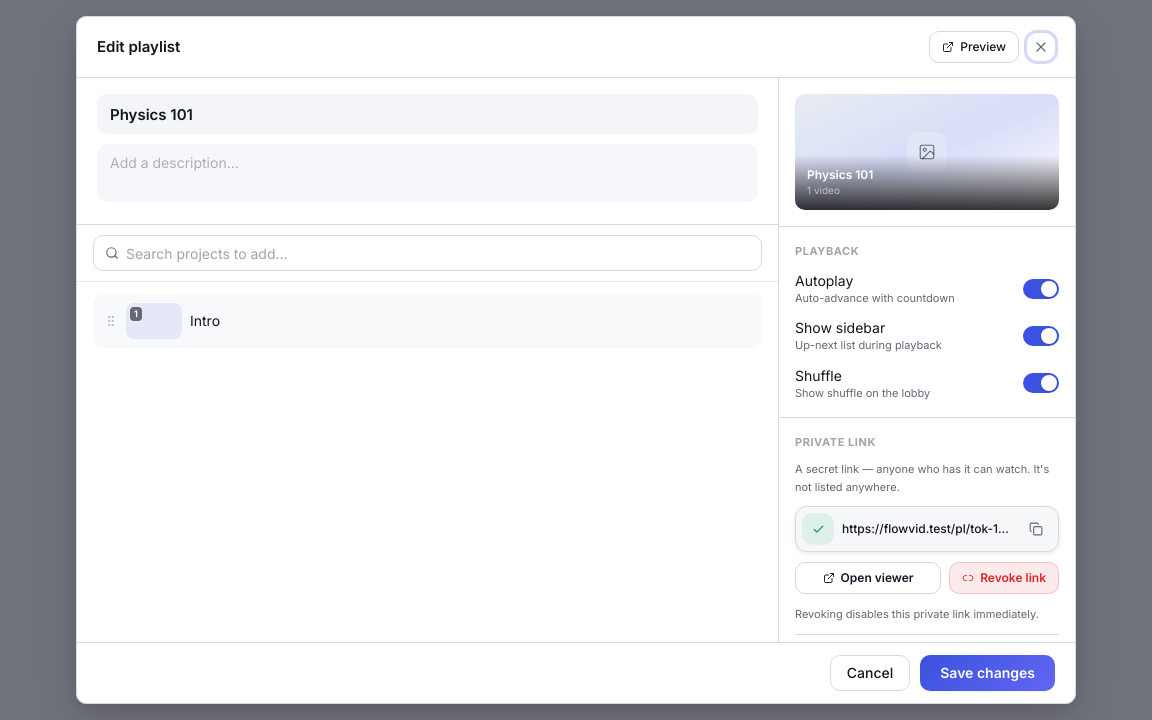
Test case: playlist editor — Revoke link › drops the link when the revoke succeeds
Click the button "Revoke link" at x=1004, y=578, box [949,562,1059,594]
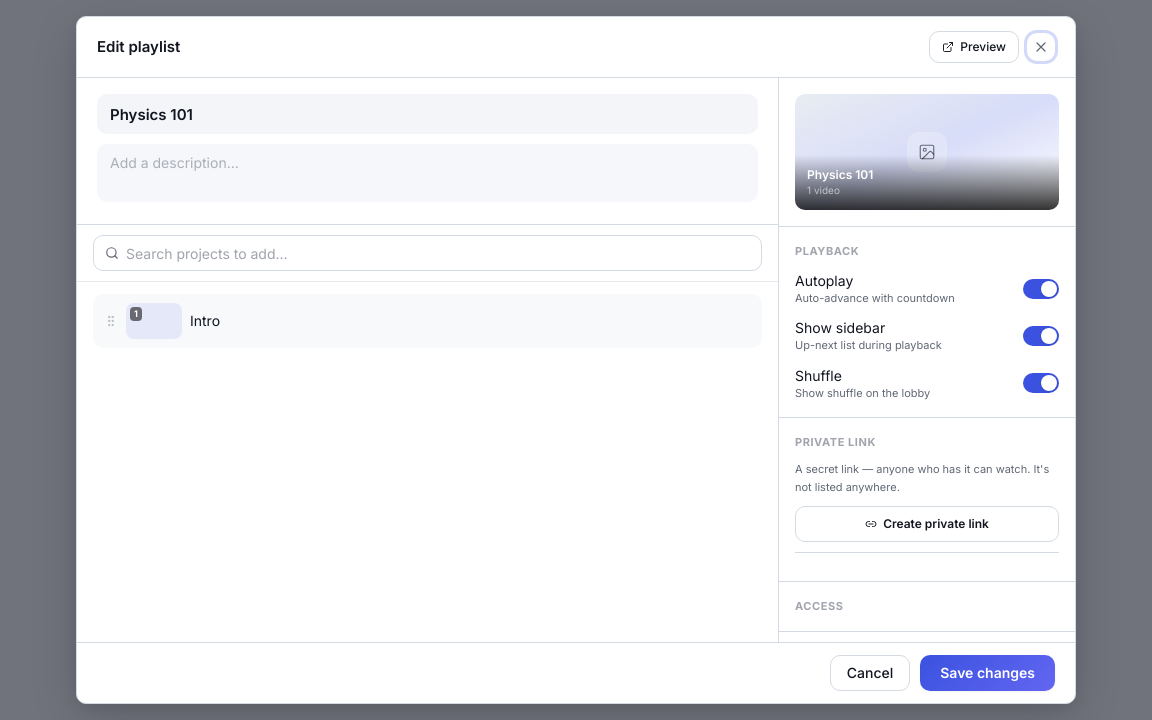
Now the text titled "https://flowvid.test/pl/tok-123" is gone
